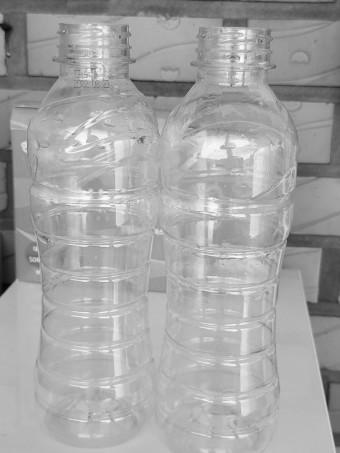bottle: (144, 25, 302, 453), (22, 16, 160, 451)
